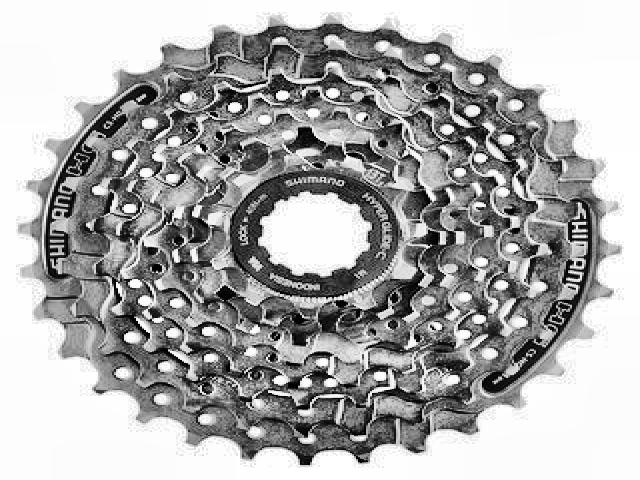cassette: (18, 13, 620, 466)
